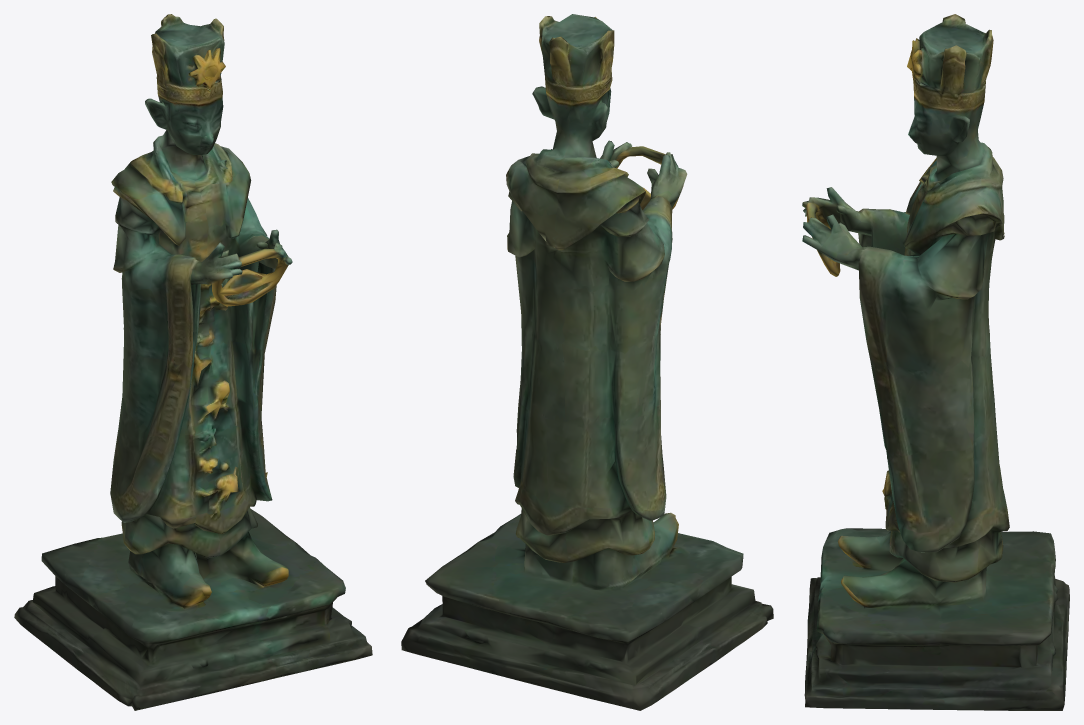
Rendered from s_priest.glb.
3 views of the same model, side by side, from view 1: azimuth 30°, elevation 25°; view 2: azimuth 150°, elevation 25°; view 3: azimuth 270°, elevation 25° (orthographic). The views are drawn at different scales.
Visible parts, largest first — view 1: tripo_node_36f8c94a-926e-46f8-9284-f7b78638a441; view 2: tripo_node_36f8c94a-926e-46f8-9284-f7b78638a441; view 3: tripo_node_36f8c94a-926e-46f8-9284-f7b78638a441.
Part boxes in pixels (box(x1,y1,x2,y2)): tripo_node_36f8c94a-926e-46f8-9284-f7b78638a441: box(14, 14, 372, 710); tripo_node_36f8c94a-926e-46f8-9284-f7b78638a441: box(401, 14, 773, 710); tripo_node_36f8c94a-926e-46f8-9284-f7b78638a441: box(802, 14, 1069, 710).
Size of the model in its own units: 0.4246 by 1 by 0.3902.
Materials: 1 (1 with a texture image).
